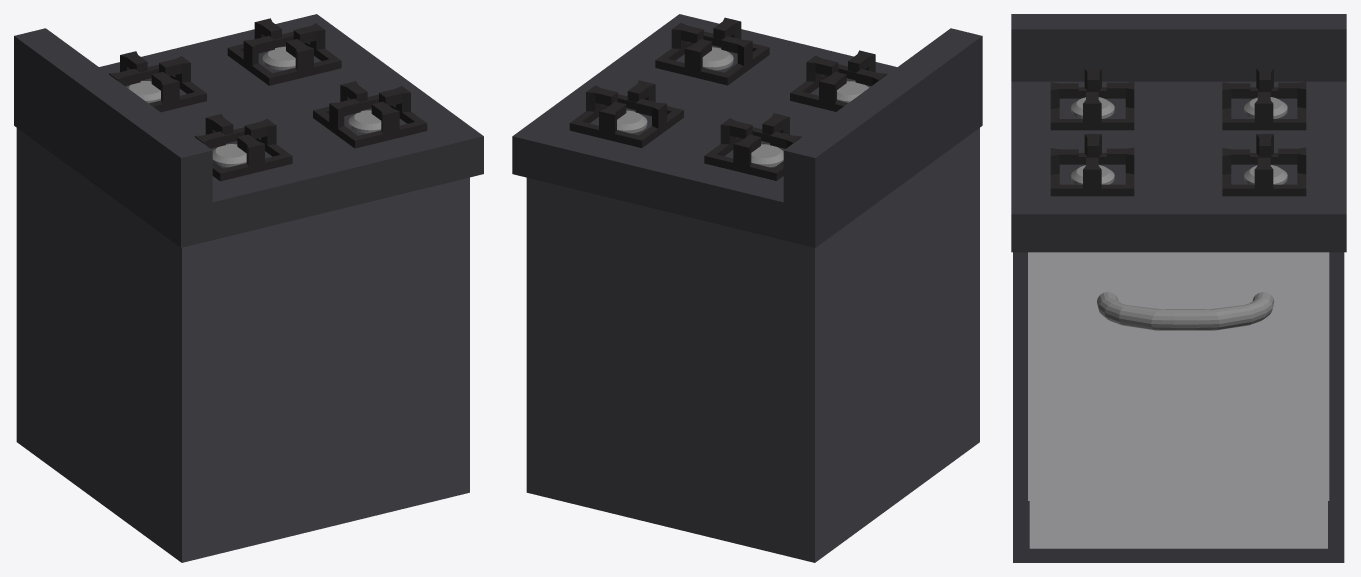
Rendered from stove textured.fbx.
The picture shows the model from 3 angles, left to right: view 1: azimuth 30°, elevation 25°; view 2: azimuth 150°, elevation 25°; view 3: azimuth 270°, elevation 25°; orthographic projection.
Visible parts, largest first — view 1: Stove left, Stove Base, Stove back, Stove bottom, Cooktop 4, Cooktop 3, Cooktop 1, Cooktop 2, Stove right, Fire 3, Fire 2, Fire 1; view 2: Stove right, Stove Base, Stove back, Stove bottom, Cooktop 3, Cooktop 4, Cooktop 2, Cooktop 1, Stove left, Fire 4; view 3: Front Door DishWasher, Stove Base, Stove bottom, Stove right, Stove left, Handle, Cooktop 4, Cooktop 3, Cooktop 2, Cooktop 1, Fire 4, Fire 3.
Part boxes in pixels (left/top/right/bottom): Stove left: left=173, top=177, right=469, bottom=548; Stove Base: left=14, top=14, right=483, bottom=247; Stove back: left=25, top=134, right=173, bottom=542; Stove bottom: left=16, top=428, right=469, bottom=562; Cooktop 4: left=227, top=18, right=341, bottom=85; Cooktop 3: left=313, top=81, right=427, bottom=148; Cooktop 1: left=194, top=114, right=292, bottom=181; Cooktop 2: left=109, top=51, right=206, bottom=112; Stove right: left=16, top=128, right=24, bottom=433; Fire 3: left=212, top=144, right=246, bottom=167; Fire 2: left=262, top=47, right=295, bottom=70; Fire 1: left=348, top=110, right=381, bottom=133; Stove right: left=526, top=177, right=823, bottom=548; Stove Base: left=512, top=14, right=982, bottom=247; Stove back: left=823, top=133, right=971, bottom=542; Stove bottom: left=526, top=428, right=979, bottom=562; Cooktop 3: left=655, top=17, right=769, bottom=85; Cooktop 4: left=569, top=80, right=683, bottom=147; Cooktop 2: left=704, top=113, right=801, bottom=180; Cooktop 1: left=790, top=50, right=887, bottom=111; Stove left: left=972, top=128, right=979, bottom=433; Fire 4: left=751, top=144, right=783, bottom=167; Front Door DishWasher: left=1028, top=252, right=1329, bottom=548; Stove Base: left=1011, top=14, right=1346, bottom=252; Stove bottom: left=1013, top=548, right=1344, bottom=562; Stove right: left=1328, top=252, right=1344, bottom=548; Stove left: left=1013, top=252, right=1029, bottom=548; Handle: left=1097, top=292, right=1274, bottom=330; Cooktop 4: left=1222, top=134, right=1306, bottom=196; Cooktop 3: left=1050, top=134, right=1134, bottom=196; Cooktop 2: left=1222, top=68, right=1306, bottom=130; Cooktop 1: left=1050, top=68, right=1134, bottom=130; Fire 4: left=1244, top=97, right=1287, bottom=118; Fire 3: left=1071, top=97, right=1114, bottom=118.
Size of the model in its own units: 1267 by 1458 by 1087.
